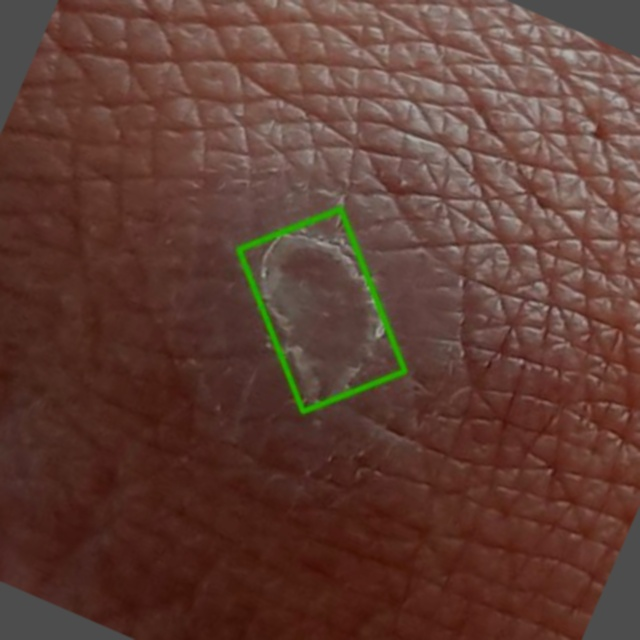Eczema: (239, 209, 405, 412)
